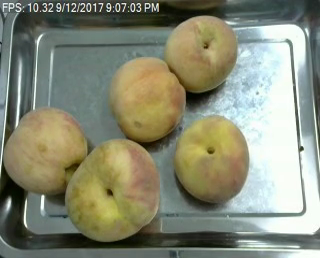Peach: (65, 139, 158, 244), (4, 107, 85, 193), (107, 57, 186, 143), (173, 114, 249, 203), (164, 15, 240, 94)
